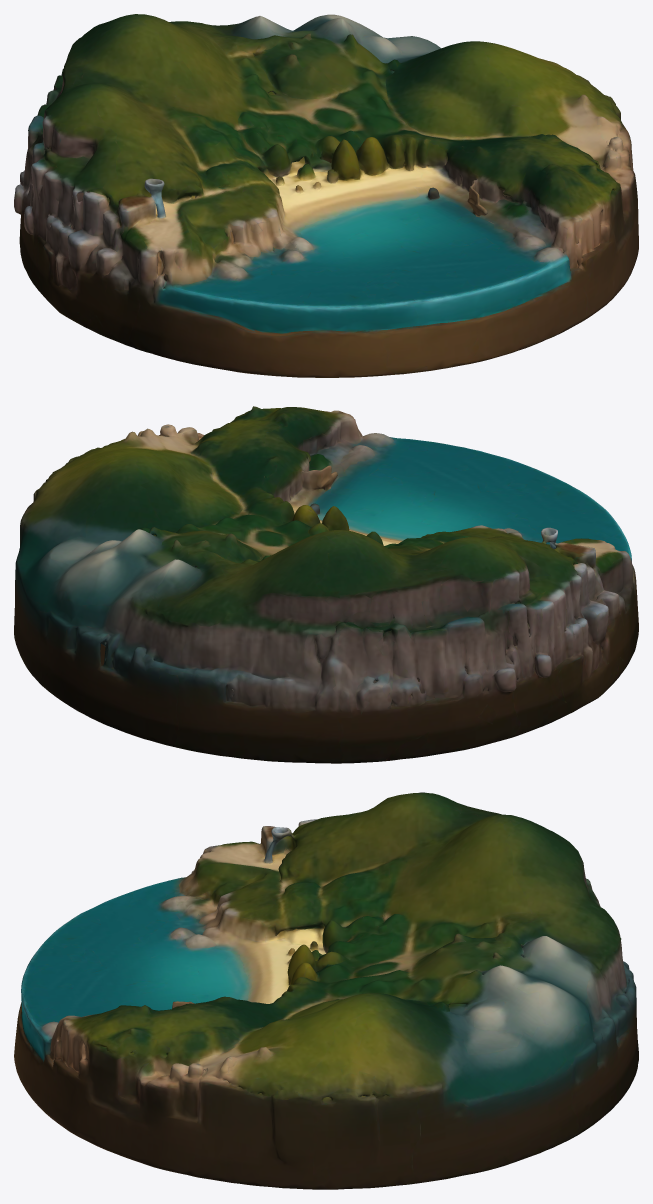
Rendered from coast.web.glb.
The picture shows the model from 3 angles, top to bottom: view 1: azimuth 30°, elevation 25°; view 2: azimuth 150°, elevation 25°; view 3: azimuth 270°, elevation 25°; orthographic projection.
Size of the model in its own units: 1 by 0.3365 by 0.9998.
Materials: 1 (1 with a texture image).
